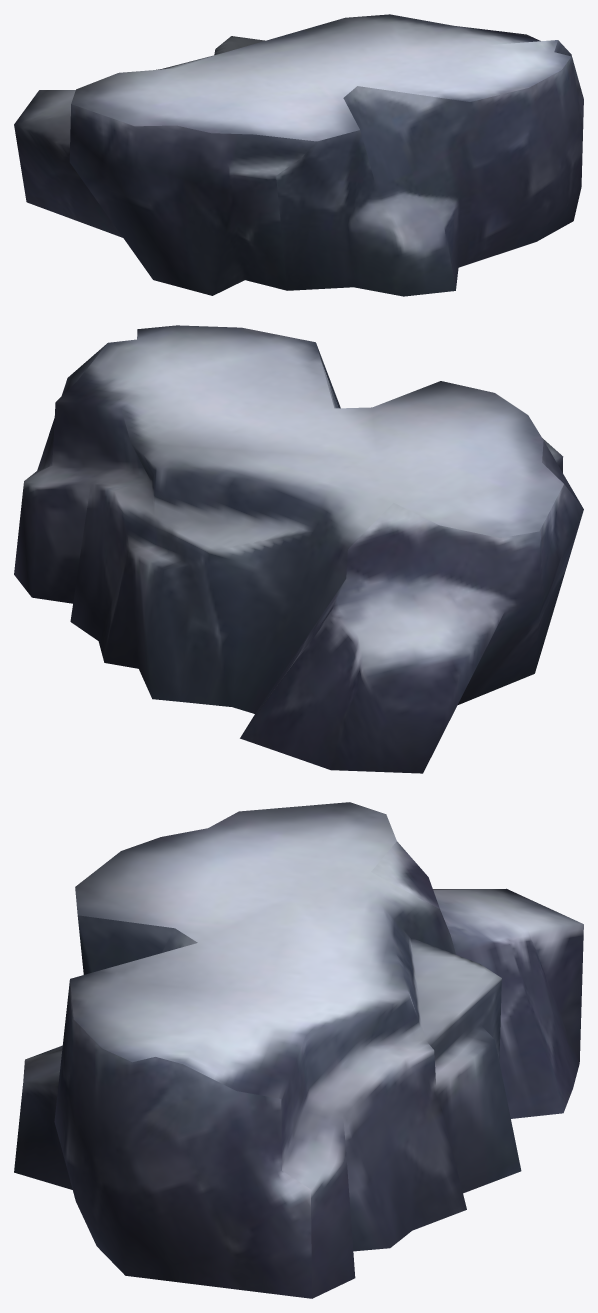
File: LGhuangyuan_shitou04.FBX
3 views of the same model, one above another, from view 1: azimuth 30°, elevation 25°; view 2: azimuth 150°, elevation 25°; view 3: azimuth 270°, elevation 25° (orthographic). The views are drawn at different scales.
Parts seen in each view (by area): view 1: LGhuangyuan_shitou04; view 2: LGhuangyuan_shitou04; view 3: LGhuangyuan_shitou04.
Part boxes in pixels (left/top/right/bottom): LGhuangyuan_shitou04: left=14, top=14, right=583, bottom=296; LGhuangyuan_shitou04: left=14, top=325, right=583, bottom=773; LGhuangyuan_shitou04: left=14, top=802, right=583, bottom=1298.
Size of the model in its own units: 100 by 82.65 by 35.31.
